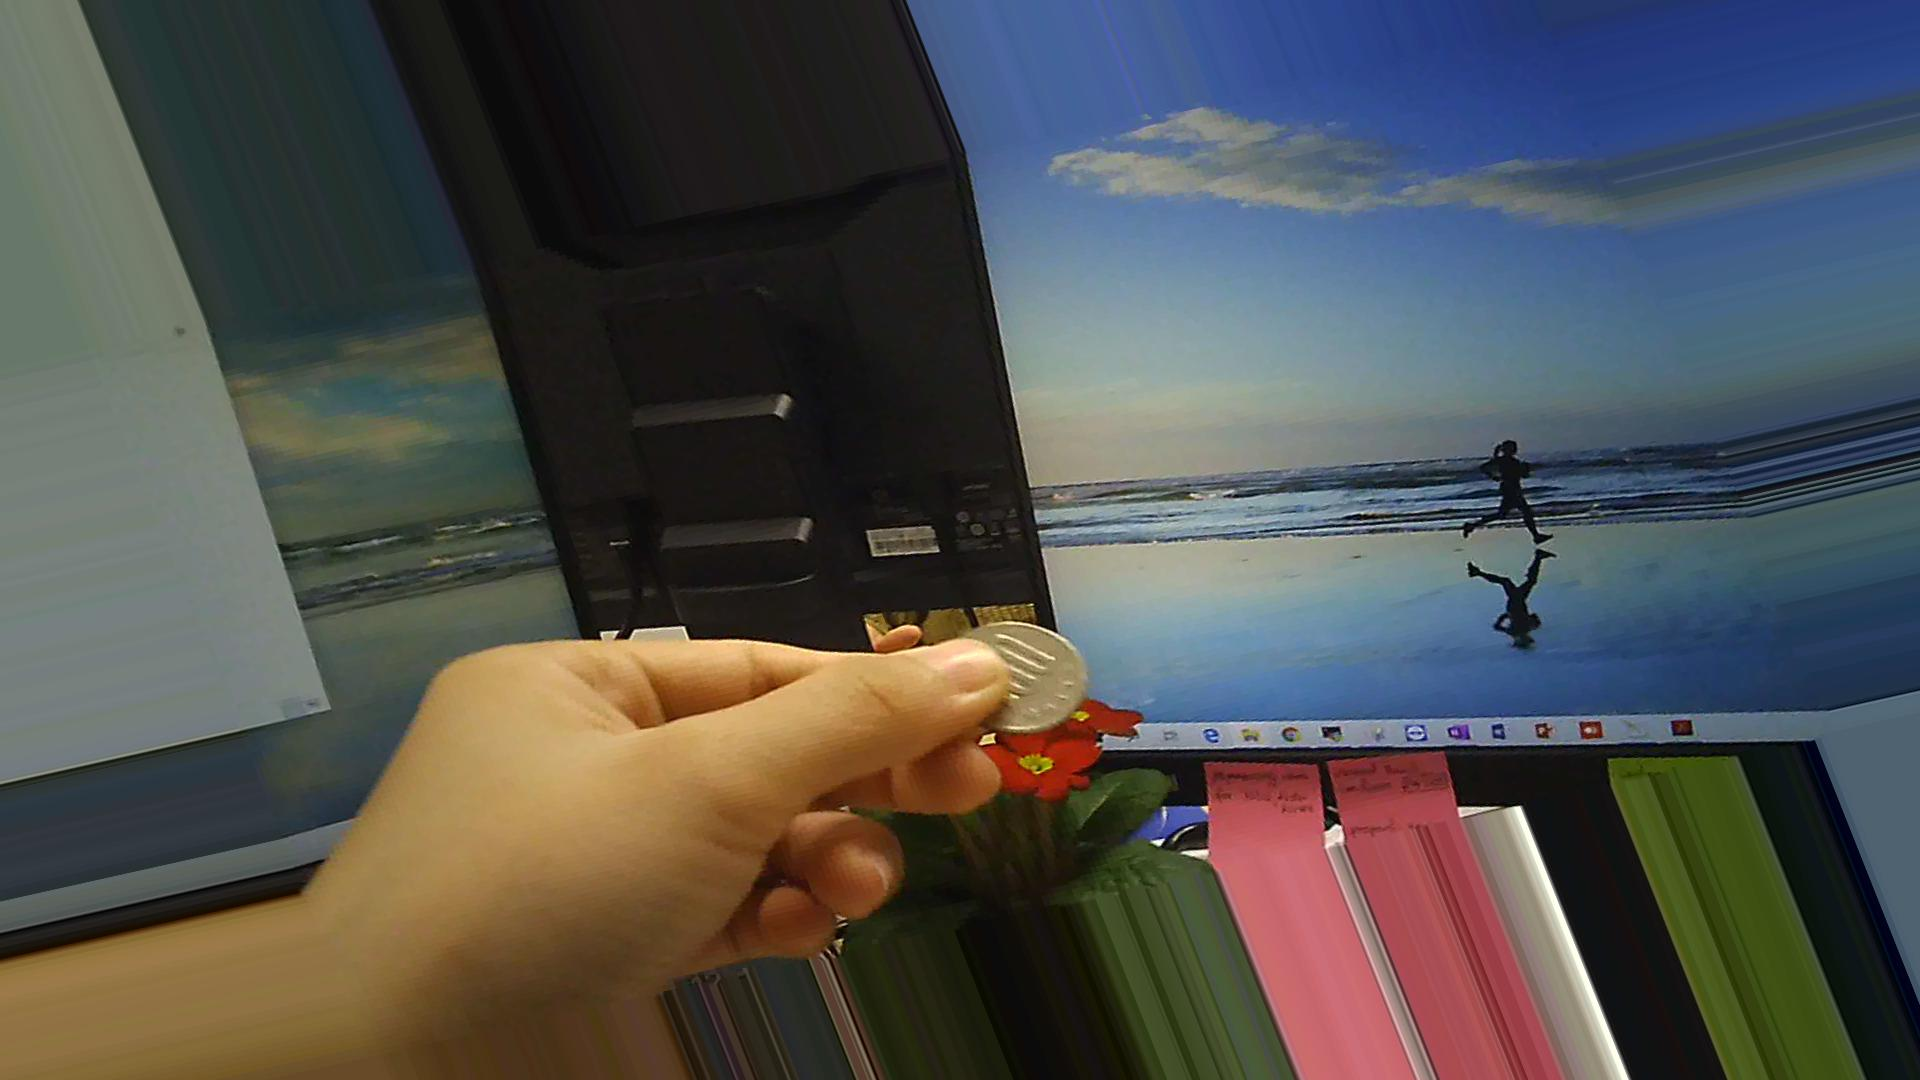100 Yen: (942, 608, 1095, 748)
